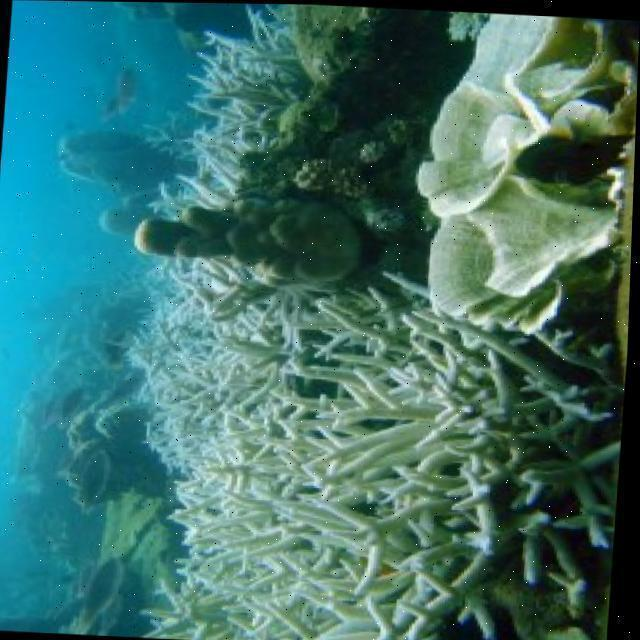Bleached Coral: (64, 1, 640, 640)
